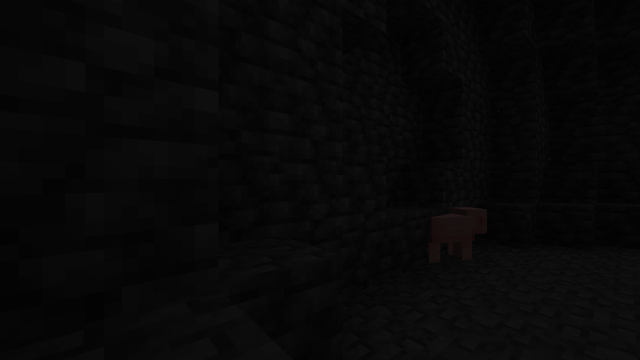cochons: (432, 212, 473, 266)
